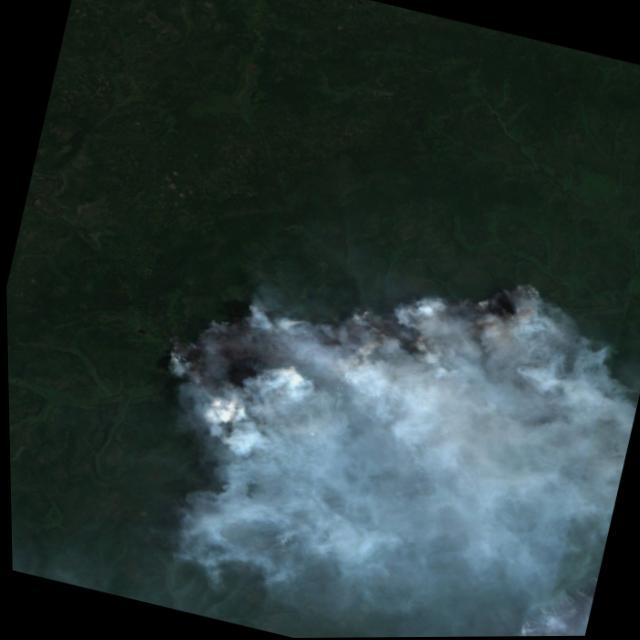fire: (136, 200, 577, 531), (494, 579, 591, 637)
